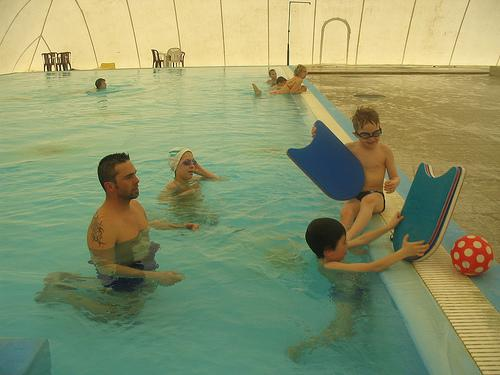swimmer: (84, 152, 198, 290), (305, 212, 380, 352), (154, 142, 214, 209), (276, 65, 306, 96), (266, 65, 288, 89), (85, 76, 107, 94)
